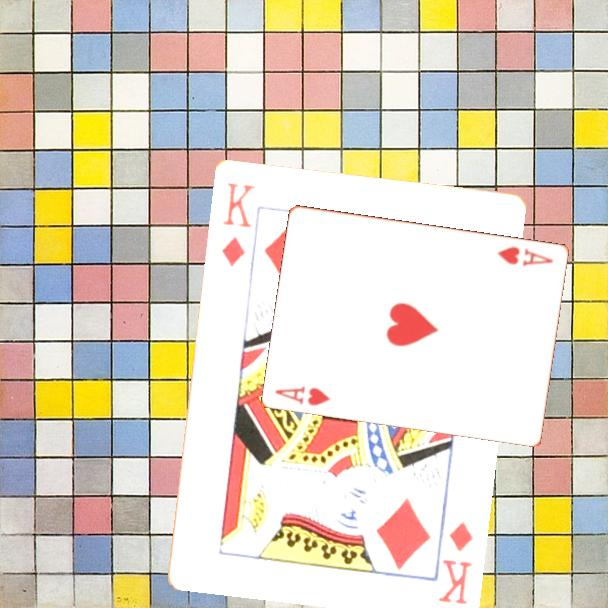d13: (434, 517, 476, 607), (218, 178, 257, 269)
h01: (494, 243, 556, 269), (272, 382, 334, 408)
